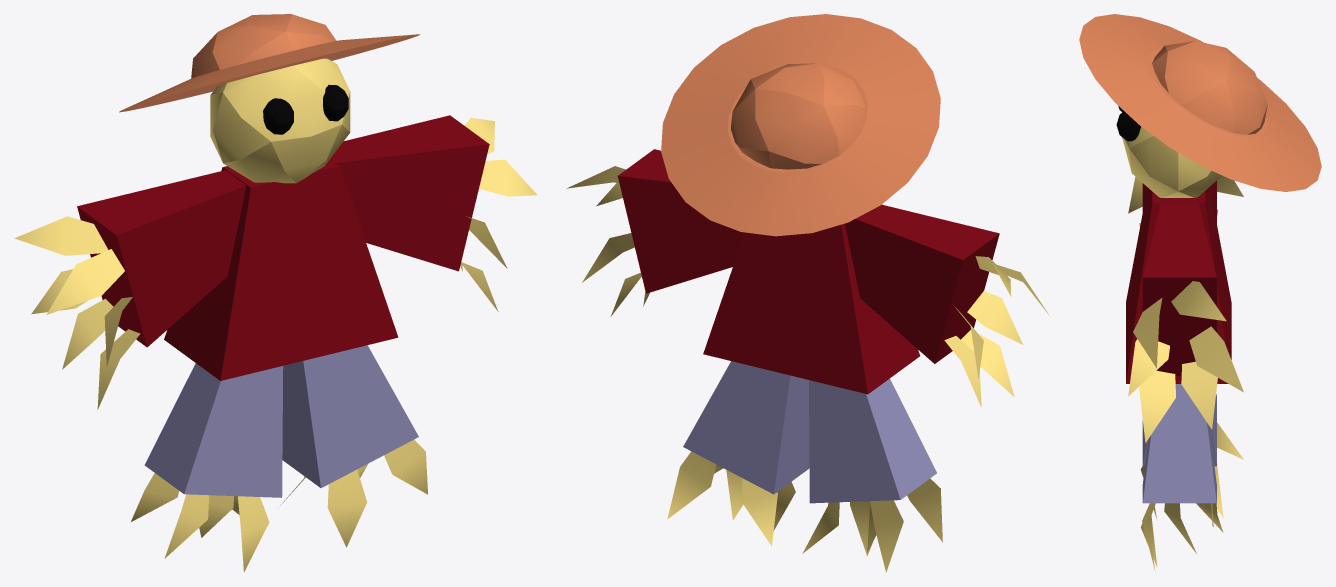
The model's file is scarecrow.fbx.
The picture shows the model from 3 angles, left to right: view 1: azimuth 30°, elevation 25°; view 2: azimuth 150°, elevation 25°; view 3: azimuth 270°, elevation 25°; orthographic projection. The views are drawn at different scales.
Parts seen in each view (by area): view 1: mergedBlocks; view 2: mergedBlocks; view 3: mergedBlocks.
Part boxes in pixels (x1=…): mergedBlocks: x1=14, y1=14, x2=537, y2=572; mergedBlocks: x1=566, y1=14, x2=1049, y2=572; mergedBlocks: x1=1079, y1=14, x2=1321, y2=570.
Bounding box in the file's own units: 17.94 × 18.8 × 8.2.
